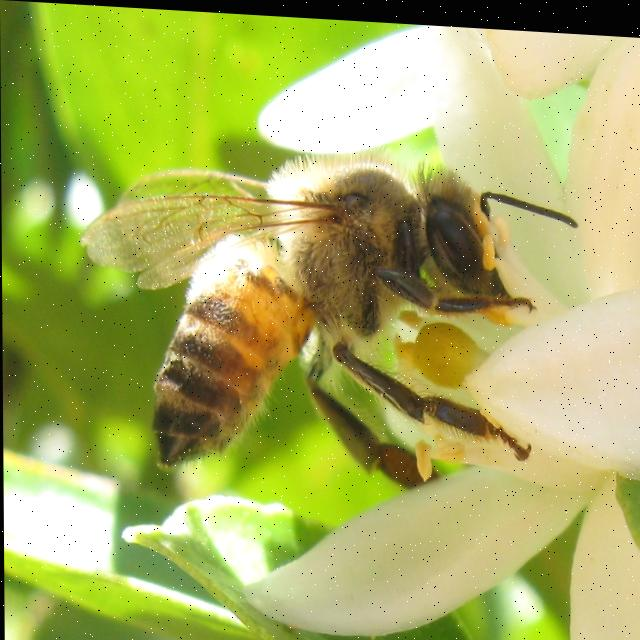Apis-mellifera-scutellata: (80, 88, 561, 505)
